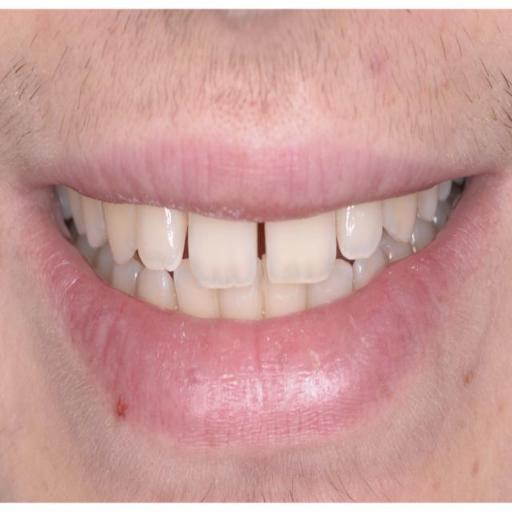spaced: (250, 212, 272, 268), (178, 228, 192, 264)
